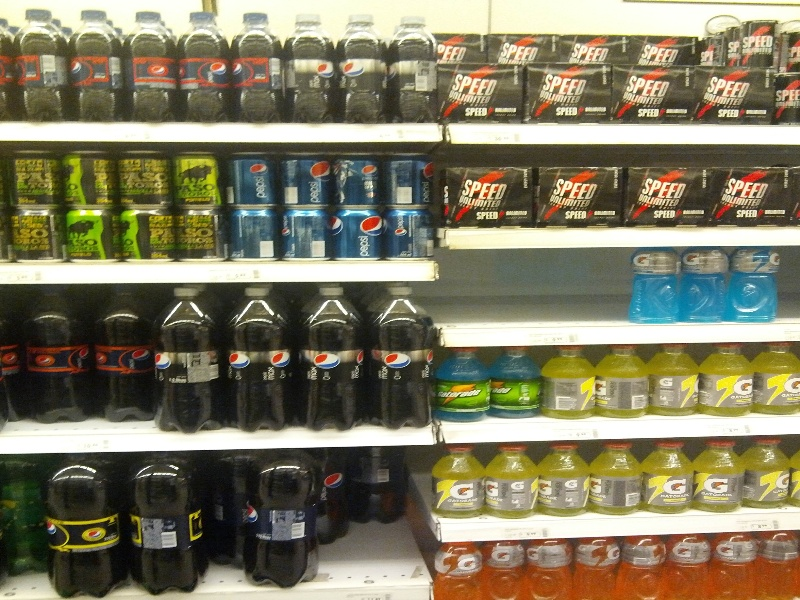lemonade: (148, 285, 230, 433), (128, 450, 210, 593), (245, 450, 327, 586), (46, 456, 125, 597), (296, 285, 367, 432), (367, 284, 435, 429), (225, 287, 293, 432), (14, 8, 71, 123), (278, 11, 338, 120), (335, 13, 395, 121), (384, 16, 442, 124), (69, 11, 124, 122), (123, 12, 178, 121), (179, 11, 232, 121), (232, 16, 282, 120), (625, 247, 681, 322), (732, 247, 787, 318), (682, 247, 731, 325)
